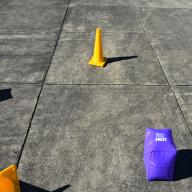cone: (89, 28, 109, 68), (0, 164, 20, 192)
cube: (143, 127, 178, 182)
